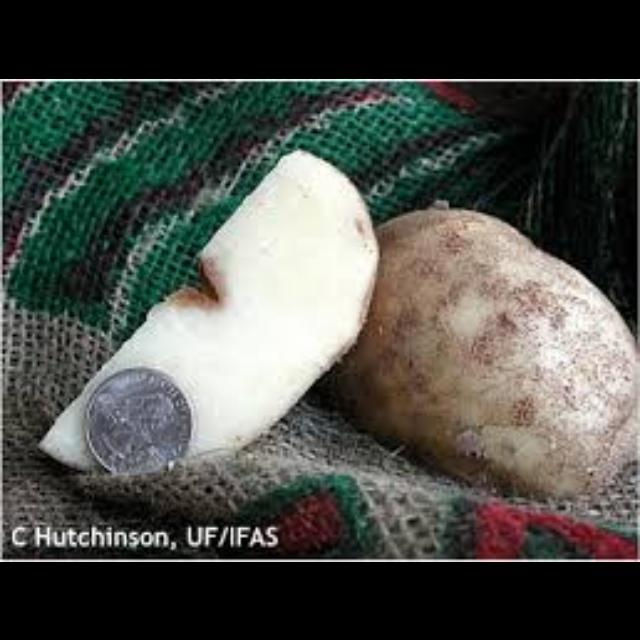Diseased-fungal potato: (59, 154, 383, 501), (356, 197, 640, 508)
